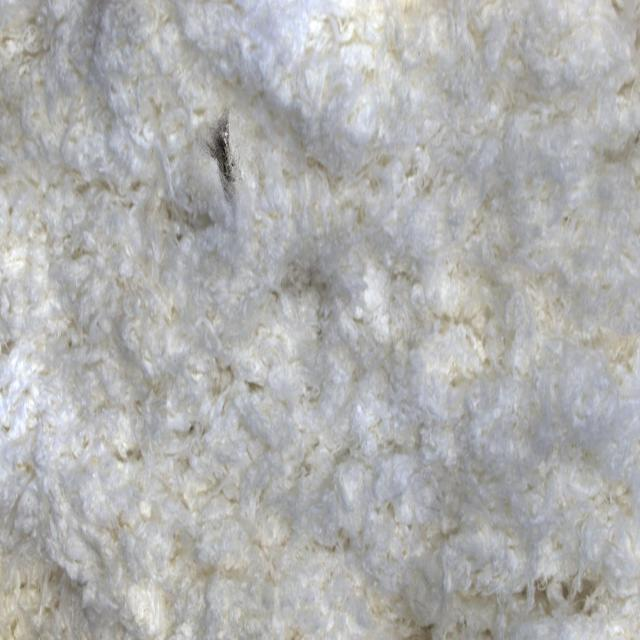dust: (174, 91, 270, 220)
